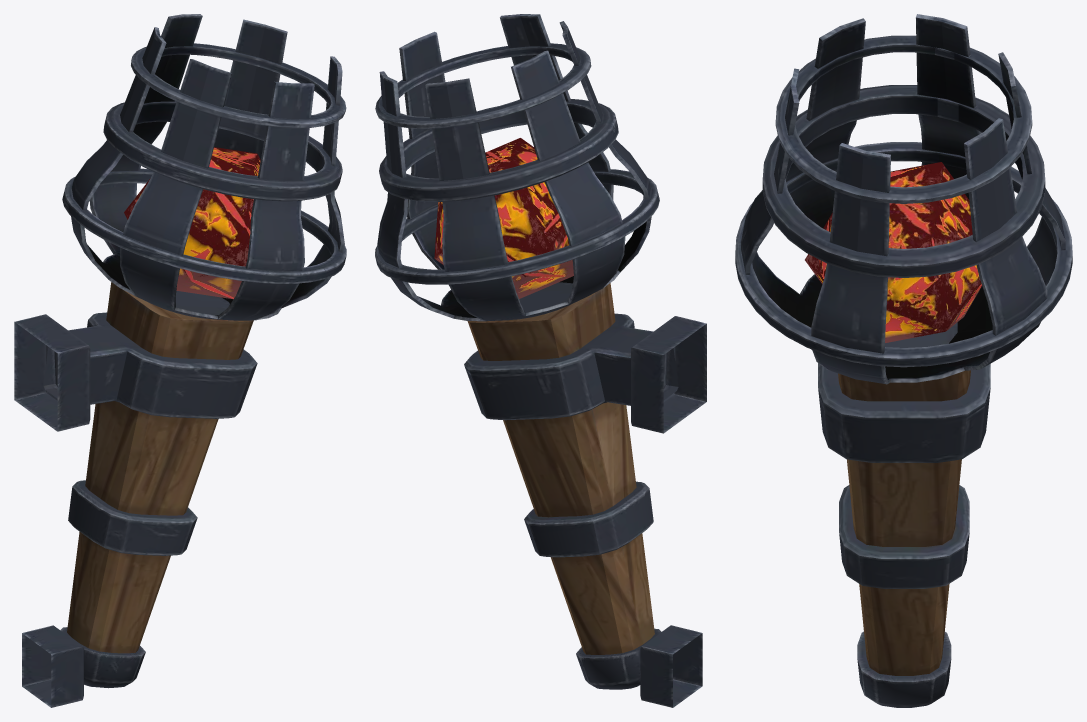
The model's file is tourch.glb.
3 renders of one model, left to right at view 1: azimuth 30°, elevation 25°; view 2: azimuth 150°, elevation 25°; view 3: azimuth 270°, elevation 25°, orthographic. The views are drawn at different scales.
Visible parts, largest first — view 1: SM_tourch_tourch_0, SM_tourch_coal_0; view 2: SM_tourch_tourch_0, SM_tourch_coal_0; view 3: SM_tourch_tourch_0, SM_tourch_coal_0.
Boxes of the visible parts, bbox=[...] form: SM_tourch_tourch_0: bbox=[14, 14, 346, 707]; SM_tourch_coal_0: bbox=[124, 147, 260, 299]; SM_tourch_tourch_0: bbox=[375, 14, 706, 707]; SM_tourch_coal_0: bbox=[434, 138, 573, 298]; SM_tourch_tourch_0: bbox=[735, 14, 1072, 707]; SM_tourch_coal_0: bbox=[805, 162, 982, 342].
Size of the model in its own units: 0.437 by 0.8767 by 0.3708.
2 materials, 2 textured.
